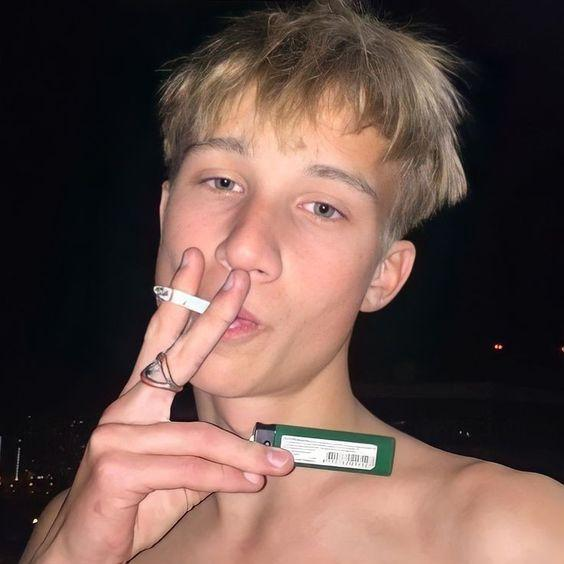cigarette: (153, 285, 211, 314)
